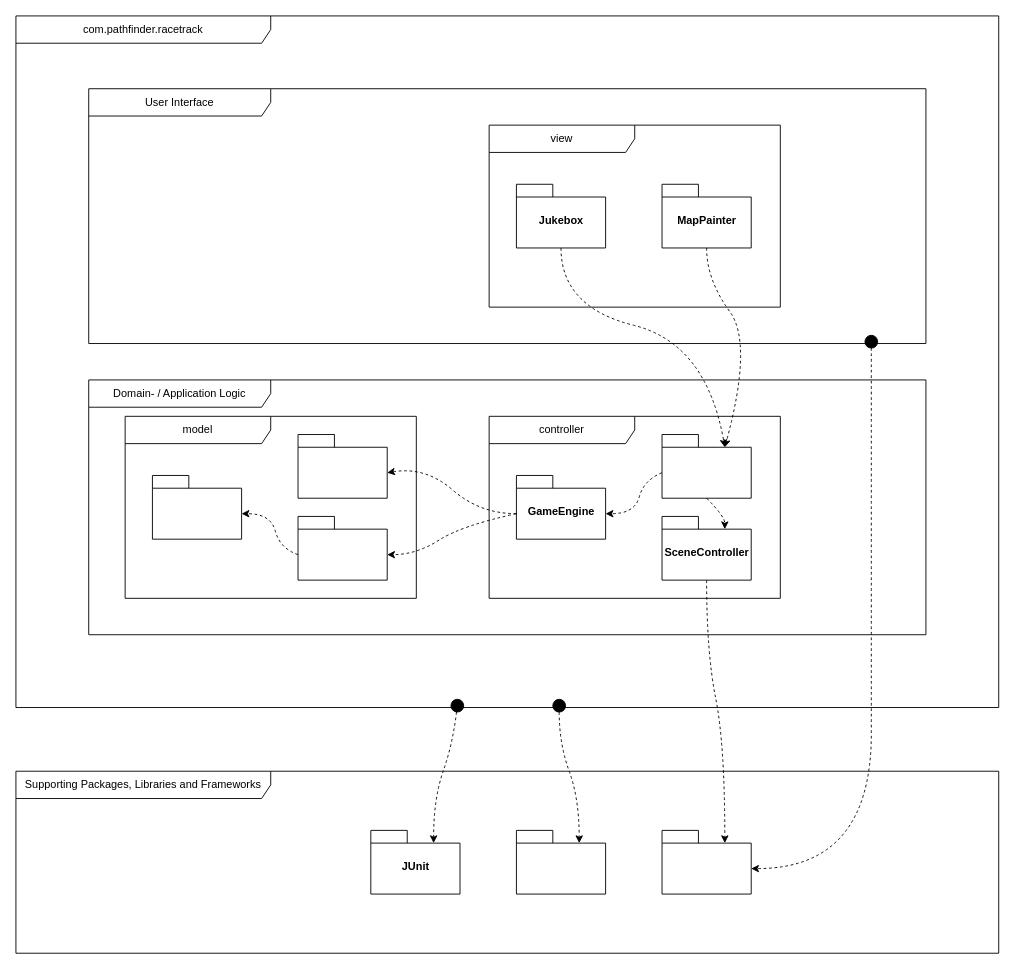
The diagram is 1015 pixels wide and 969 high, and some of its shapes have lost their labels. The shapes that lost their labels are listed below. From the top down, each one's centre as x and y in pixels, then its label:
pixel 342 466: Track
pixel 706 466: PlayingField Controller
pixel 197 507: Player
pixel 342 548: Car
pixel 561 861: SLF4J
pixel 706 861: JavaFX
